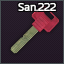Health Resort west wing room 222 key: (0, 0, 64, 64)
